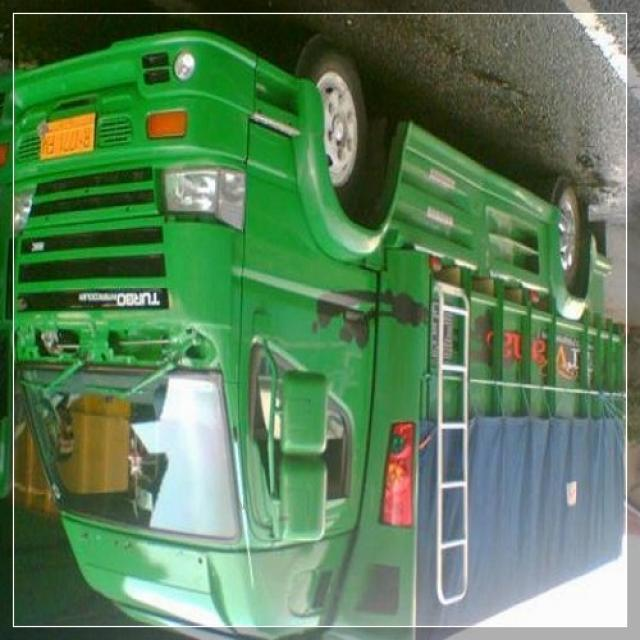Truck: (1, 28, 628, 640)
